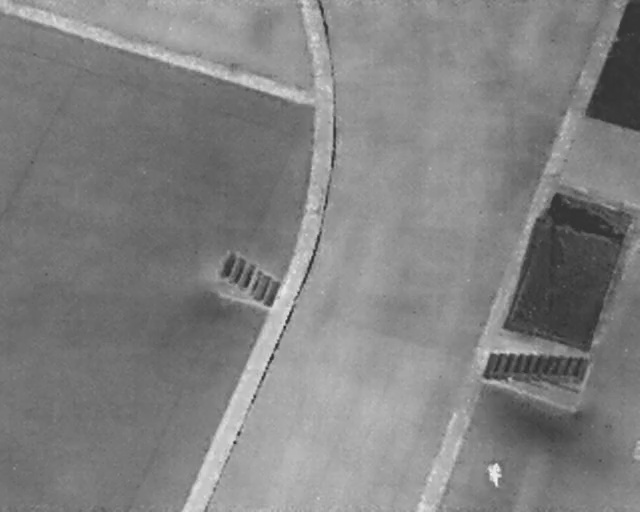Person: (486, 460, 503, 488)
